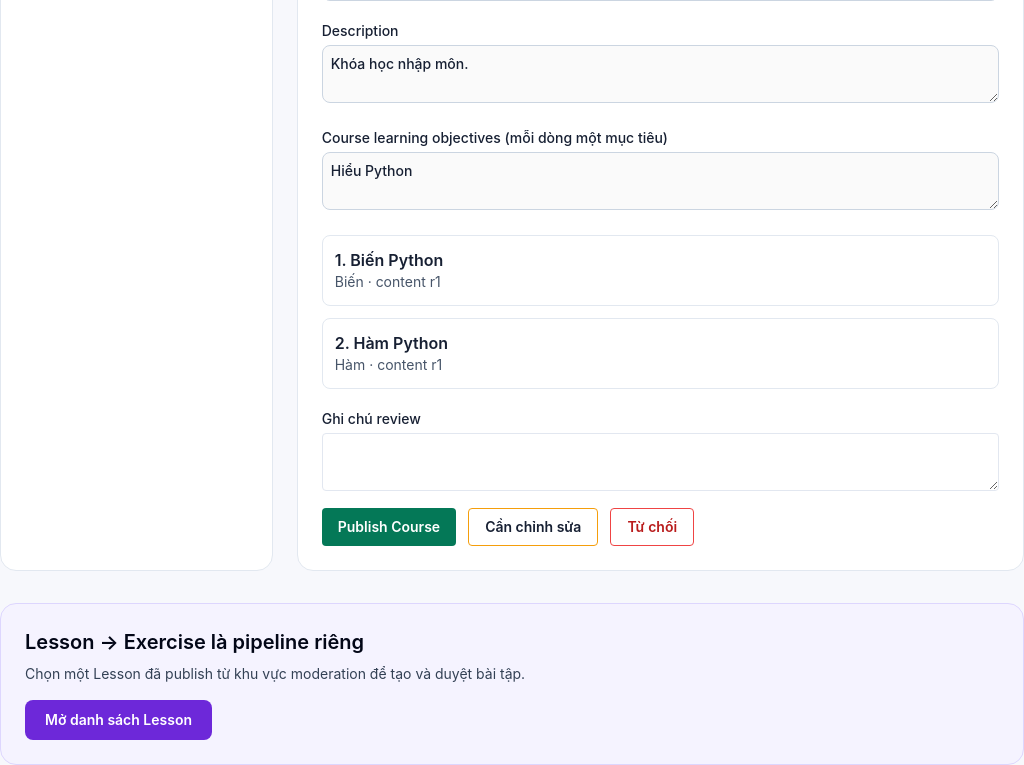
Test: content pipeline Admin › publishes atomically and removes the resolved item after refresh
(page scrolled)
Click the button "Publish Course".
click(389, 527)  # box [322,508,456,546]
(page scrolled)
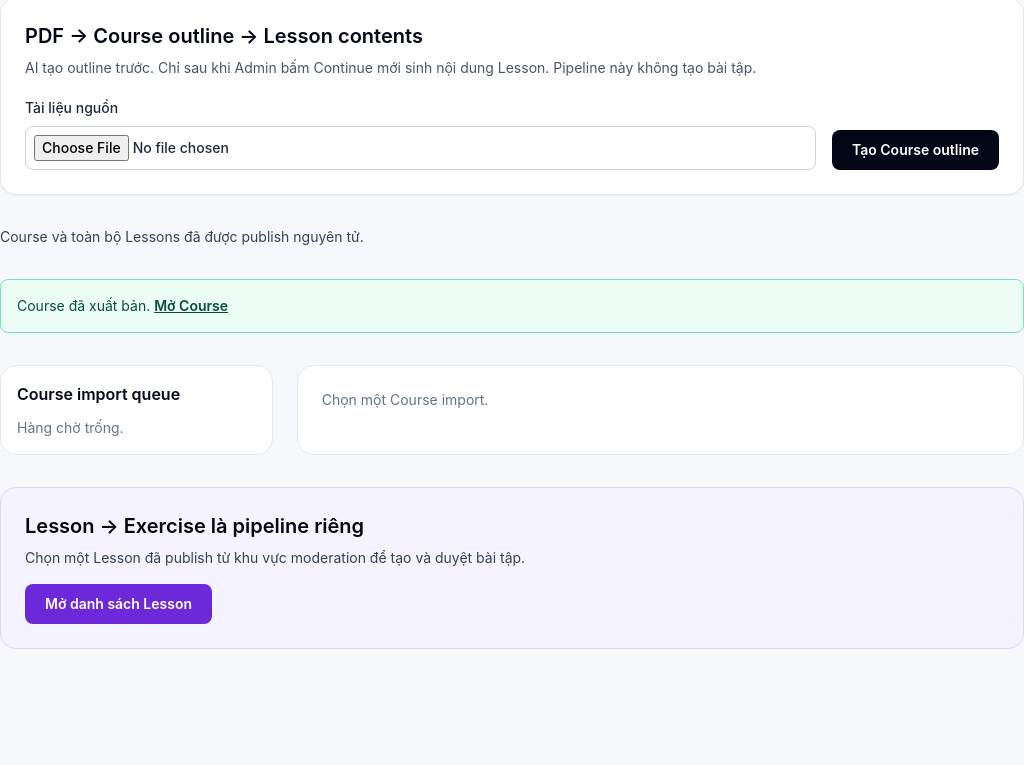
Expected: the text "Hàng chờ trống." is shown, [17,419,124,436]
